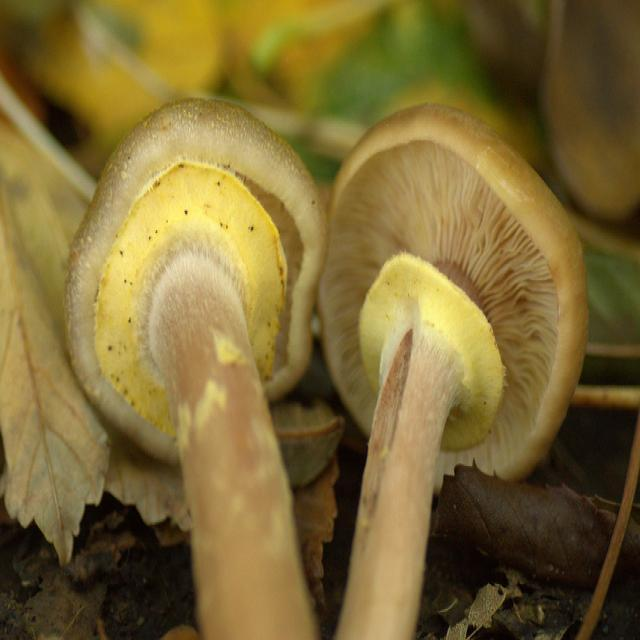Armillaria mellea: (64, 94, 324, 640), (324, 106, 588, 640)
